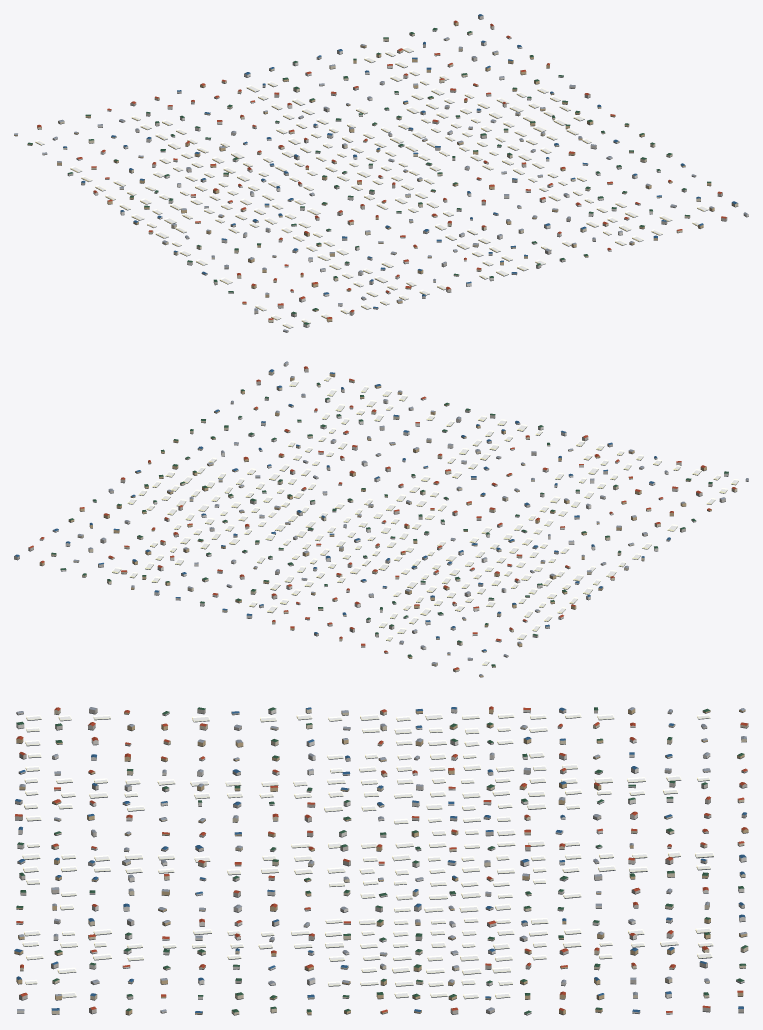
The model's file is buildings_T_E03_N03.glb.
3 renders of one model, top to bottom at view 1: azimuth 30°, elevation 25°; view 2: azimuth 150°, elevation 25°; view 3: azimuth 270°, elevation 25°, orthographic. The views are drawn at different scales.
Parts seen in each view (by area): view 1: T_E03_N03_roofs_agri_greenhouse_arch, T_E03_N03_slope_seating_foundations, T_E03_N03_walls_wall_modern_warm_white, T_E03_N03_walls_wall_french_ochre_villa, T_E03_N03_walls_wall_pastel_sand_gray, T_E03_N03_walls_wall_dalat_cream_stucco, T_E03_N03_roofs_roof_terracotta_gable, T_E03_N03_roofs_roof_pine_green_hip, T_E03_N03_roofs_roof_zinc_silver_gable, T_E03_N03_roofs_roof_highland_blue_gable; view 2: T_E03_N03_roofs_agri_greenhouse_arch, T_E03_N03_slope_seating_foundations, T_E03_N03_walls_wall_french_ochre_villa, T_E03_N03_walls_wall_modern_warm_white, T_E03_N03_walls_wall_pastel_sand_gray, T_E03_N03_walls_wall_dalat_cream_stucco, T_E03_N03_roofs_roof_terracotta_gable, T_E03_N03_roofs_roof_pine_green_hip, T_E03_N03_roofs_roof_zinc_silver_gable, T_E03_N03_roofs_roof_highland_blue_gable; view 3: T_E03_N03_roofs_agri_greenhouse_arch, T_E03_N03_slope_seating_foundations, T_E03_N03_walls_wall_french_ochre_villa, T_E03_N03_walls_wall_modern_warm_white, T_E03_N03_walls_wall_pastel_sand_gray, T_E03_N03_roofs_roof_terracotta_gable, T_E03_N03_walls_wall_dalat_cream_stucco, T_E03_N03_roofs_roof_pine_green_hip, T_E03_N03_roofs_roof_zinc_silver_gable, T_E03_N03_roofs_roof_highland_blue_gable.
Boxes of the visible parts, <box> form: T_E03_N03_roofs_agri_greenhouse_arch: <box>35,46,708,328</box>; T_E03_N03_slope_seating_foundations: <box>14,18,748,332</box>; T_E03_N03_walls_wall_modern_warm_white: <box>76,29,748,327</box>; T_E03_N03_walls_wall_french_ochre_villa: <box>14,22,714,321</box>; T_E03_N03_walls_wall_pastel_sand_gray: <box>42,15,727,332</box>; T_E03_N03_walls_wall_dalat_cream_stucco: <box>37,32,738,322</box>; T_E03_N03_roofs_roof_terracotta_gable: <box>37,20,726,319</box>; T_E03_N03_roofs_roof_pine_green_hip: <box>27,28,711,324</box>; T_E03_N03_roofs_roof_zinc_silver_gable: <box>14,37,747,331</box>; T_E03_N03_roofs_roof_highland_blue_gable: <box>63,14,737,308</box>; T_E03_N03_roofs_agri_greenhouse_arch: <box>112,376,738,665</box>; T_E03_N03_slope_seating_foundations: <box>14,364,748,677</box>; T_E03_N03_walls_wall_french_ochre_villa: <box>39,373,711,677</box>; T_E03_N03_walls_wall_modern_warm_white: <box>39,362,728,649</box>; T_E03_N03_walls_wall_pastel_sand_gray: <box>14,368,748,660</box>; T_E03_N03_walls_wall_dalat_cream_stucco: <box>51,370,737,671</box>; T_E03_N03_roofs_roof_terracotta_gable: <box>29,366,736,669</box>; T_E03_N03_roofs_roof_pine_green_hip: <box>51,382,728,666</box>; T_E03_N03_roofs_roof_zinc_silver_gable: <box>73,361,748,675</box>; T_E03_N03_roofs_roof_highland_blue_gable: <box>14,369,670,651</box>; T_E03_N03_roofs_agri_greenhouse_arch: <box>22,713,713,998</box>; T_E03_N03_slope_seating_foundations: <box>14,711,748,1015</box>; T_E03_N03_walls_wall_french_ochre_villa: <box>14,708,748,1014</box>; T_E03_N03_walls_wall_modern_warm_white: <box>16,707,746,1014</box>; T_E03_N03_walls_wall_pastel_sand_gray: <box>15,708,747,1014</box>; T_E03_N03_roofs_roof_terracotta_gable: <box>15,706,748,1012</box>; T_E03_N03_walls_wall_dalat_cream_stucco: <box>20,708,748,1014</box>; T_E03_N03_roofs_roof_pine_green_hip: <box>16,707,747,1013</box>; T_E03_N03_roofs_roof_zinc_silver_gable: <box>17,707,747,1011</box>; T_E03_N03_roofs_roof_highland_blue_gable: <box>14,707,746,1013</box>.
Bounding box in the file's own units: 1790 × 33.96 × 1792.
